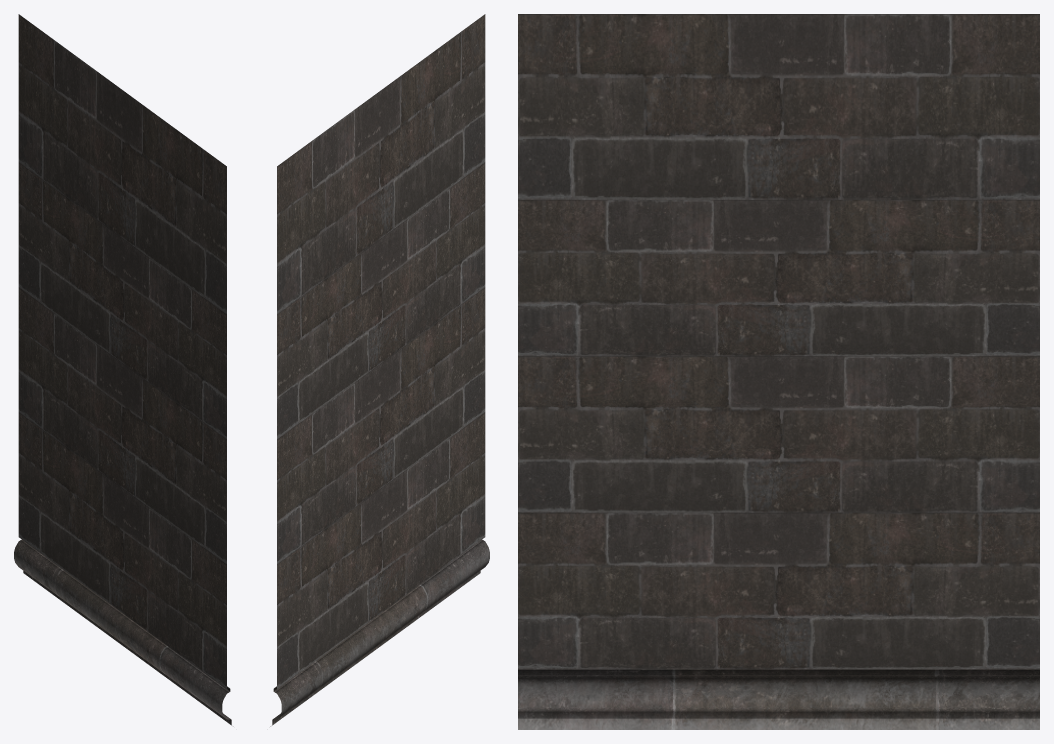
File: Psychiatric_Ward_Basement_Lower_Wall_2m.glb
3 views of the same model, side by side, from view 1: azimuth 30°, elevation 25°; view 2: azimuth 150°, elevation 25°; view 3: azimuth 270°, elevation 25° (orthographic). The views are drawn at different scales.
Parts seen in each view (by area): view 1: Psychiatric_Ward_Basement_Lower_Wall_2m; view 2: Psychiatric_Ward_Basement_Lower_Wall_2m; view 3: Psychiatric_Ward_Basement_Lower_Wall_2m.
Part boxes in pixels (x1=…): Psychiatric_Ward_Basement_Lower_Wall_2m: x1=14, y1=14, x2=233, y2=726; Psychiatric_Ward_Basement_Lower_Wall_2m: x1=270, y1=14, x2=489, y2=726; Psychiatric_Ward_Basement_Lower_Wall_2m: x1=518, y1=14, x2=1039, y2=729.
Bounding box in the file's own units: 0.0873 × 3 × 2.
1 material, 1 textured.
